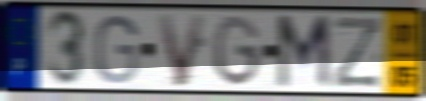3: (45, 6, 88, 92)
G: (211, 13, 263, 90), (91, 12, 141, 86)
M: (274, 12, 334, 93)
V: (154, 11, 209, 90)
Z: (331, 14, 384, 91)
